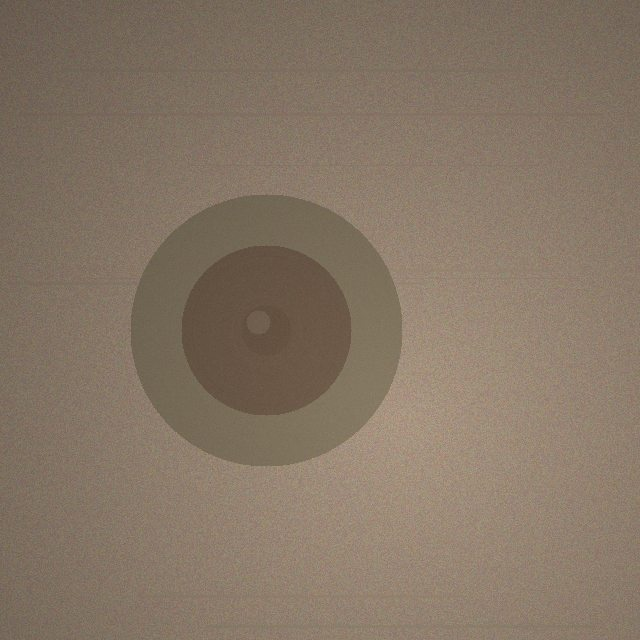good: (130, 194, 402, 466)
